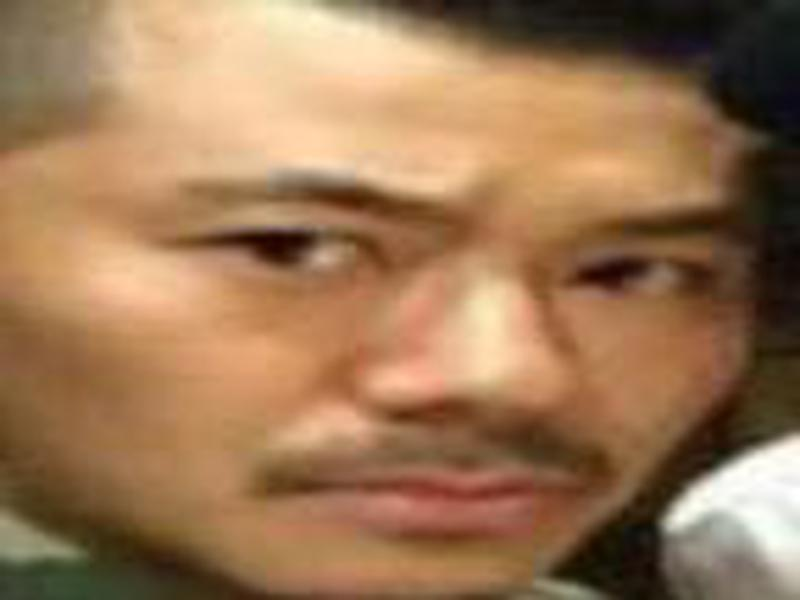without_mask: (8, 5, 756, 600)
